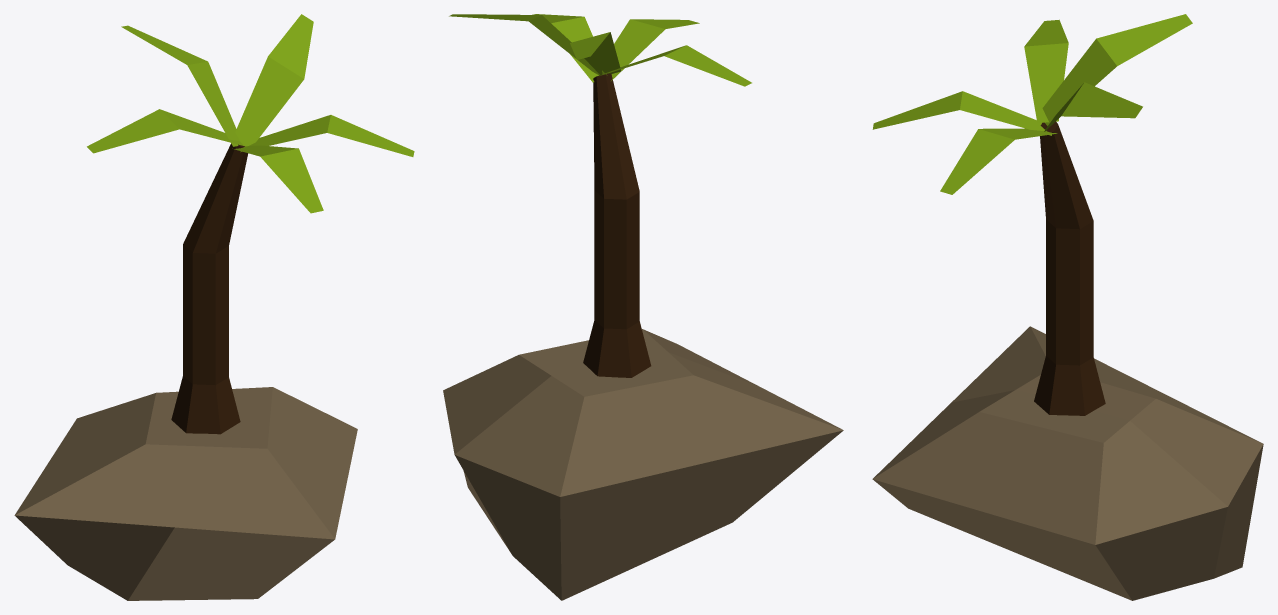
The model's file is Palm.glb.
3 renders of one model, left to right at view 1: azimuth 30°, elevation 25°; view 2: azimuth 150°, elevation 25°; view 3: azimuth 270°, elevation 25°, orthographic. The views are drawn at different scales.
Parts seen in each view (by area): view 1: Palm; view 2: Palm; view 3: Palm.
Part boxes in pixels (<box>): Palm: <box>14,14,414,600</box>; Palm: <box>443,14,843,600</box>; Palm: <box>872,14,1263,600</box>.
Bounding box in the file's own units: 3.91 × 5.3 × 3.41.
